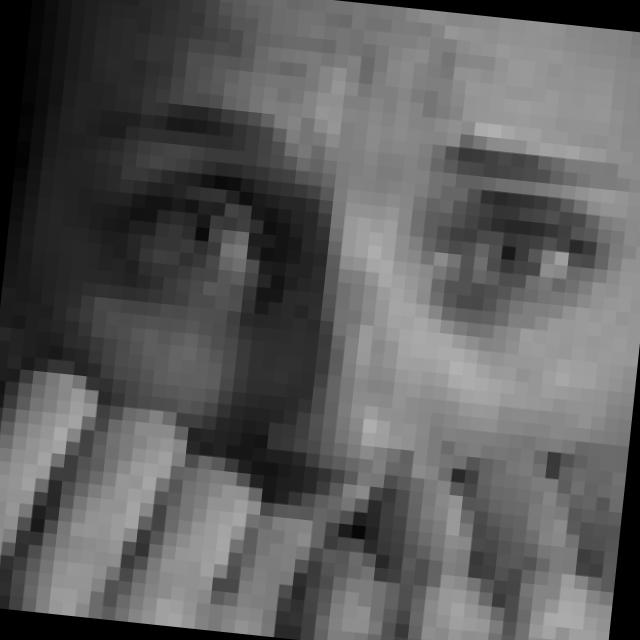fear: (33, 67, 640, 640)
